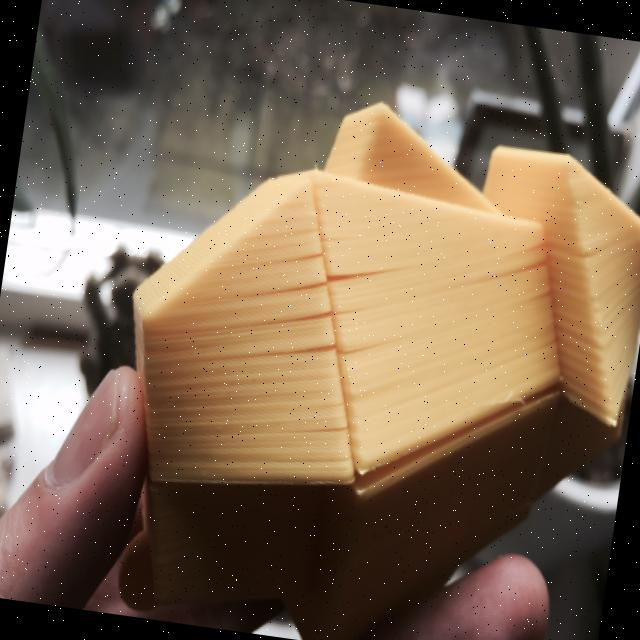cracks: (242, 257, 416, 382), (472, 238, 584, 302)
